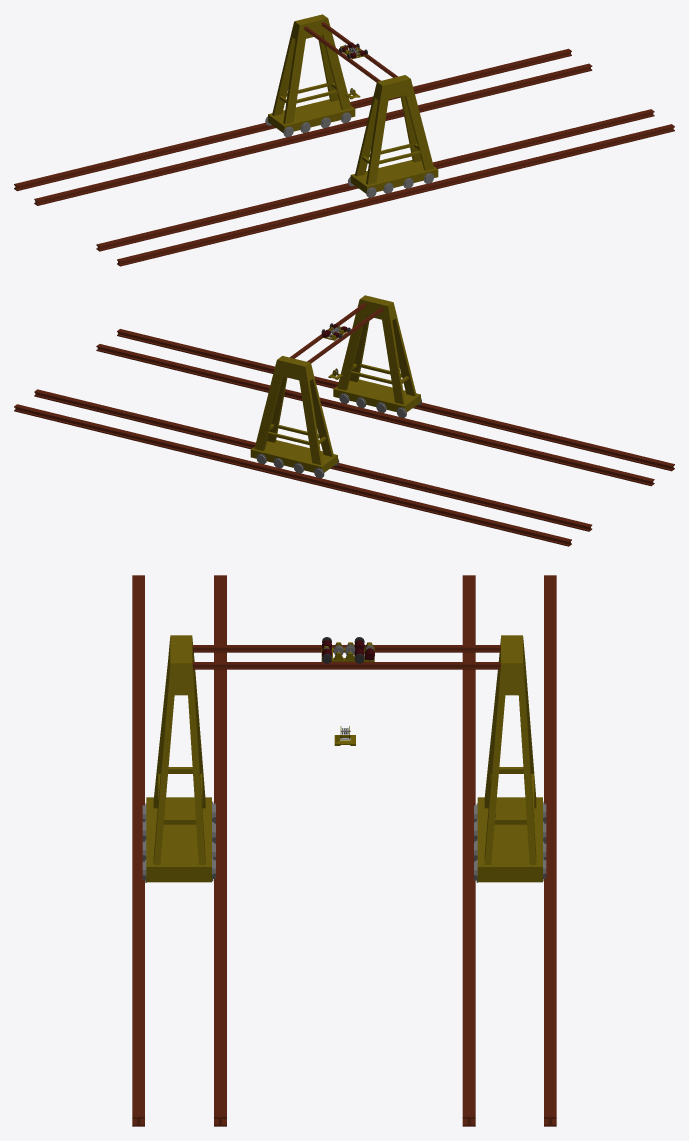
File: Crane.fbx
The picture shows the model from 3 angles, top to bottom: view 1: azimuth 30°, elevation 25°; view 2: azimuth 150°, elevation 25°; view 3: azimuth 270°, elevation 25°; orthographic projection. The views are drawn at different scales.
Visible parts, largest first — view 1: Cube.029, Cube.026, Cube.028, Cube.027, Cube.014, Cube.015, Cube.017, Cube.016, Cube; view 2: Cube.027, Cube.028, Cube.026, Cube.029, Cube.015, Cube.014, Cube.017, Cube.016, Cube; view 3: Cube.026, Cube.029, Cube.027, Cube.028, Cube.014, Cube.015, Cube.017, Cube.016, Cube.001, Cube.
Part boxes in pixels (x1,y1,x2,y2): Cube.029: (117,124,674,266); Cube.026: (34,63,592,205); Cube.028: (96,109,654,251); Cube.027: (14,48,571,191); Cube.014: (355,75,434,184); Cube.015: (272,14,351,124); Cube.017: (350,160,438,193); Cube.016: (268,99,355,132); Cube: (304,26,380,82); Cube.027: (14,404,571,546); Cube.028: (96,344,654,486); Cube.026: (34,389,592,531); Cube.029: (117,329,674,471); Cube.015: (254,356,333,464); Cube.014: (337,295,416,404); Cube.017: (333,379,420,411); Cube.016: (250,440,337,472); Cube: (307,307,383,363); Cube.026: (462,575,475,1126); Cube.029: (132,575,144,1126); Cube.027: (544,575,556,1126); Cube.028: (214,575,226,1126); Cube.014: (153,635,205,864); Cube.015: (484,635,536,864); Cube.017: (146,797,211,882); Cube.016: (477,797,542,882); Cube.001: (192,662,500,669); Cube: (192,645,500,652).
Bounding box in the file's own units: 19200 × 3611 × 6363.
